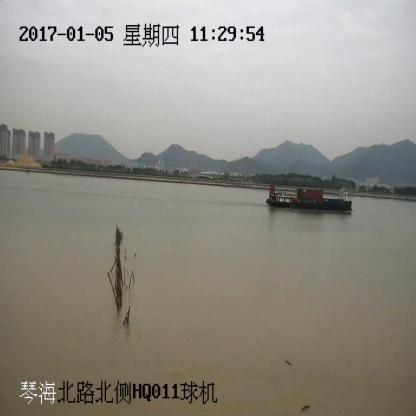Container Ship: (266, 186, 352, 212)
